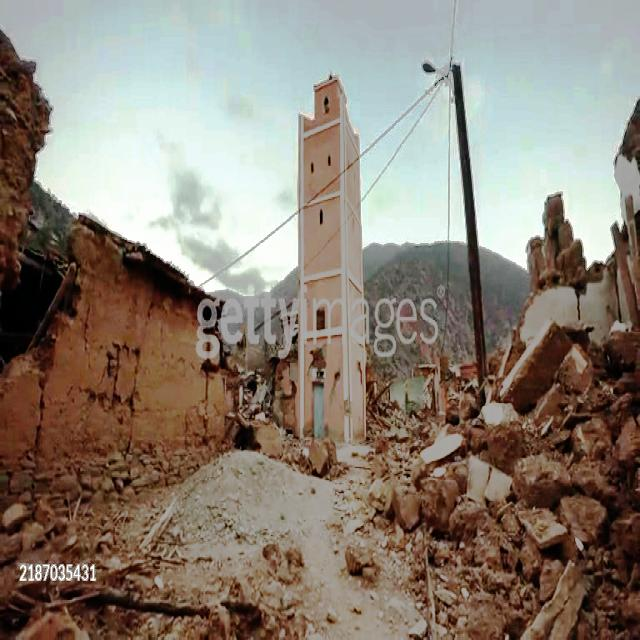poles: (448, 0, 484, 357)
wires: (283, 104, 431, 290), (358, 77, 447, 161), (207, 212, 299, 281), (444, 90, 453, 340), (301, 172, 342, 209)
